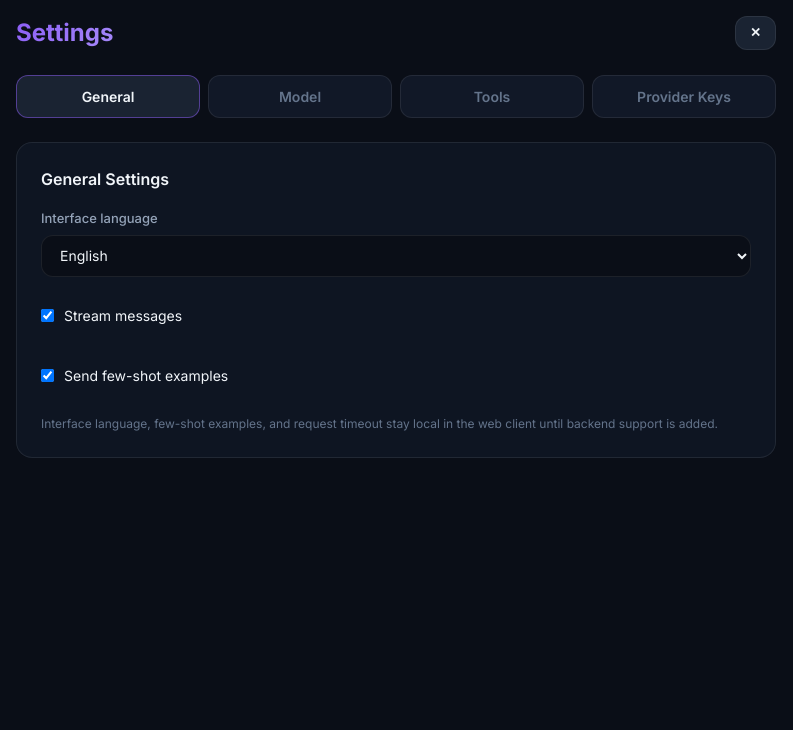
SettingsPage › uses numeric inputs for model controls
Click the tab "Model". click: (300, 96)
box: [208,75,392,118]
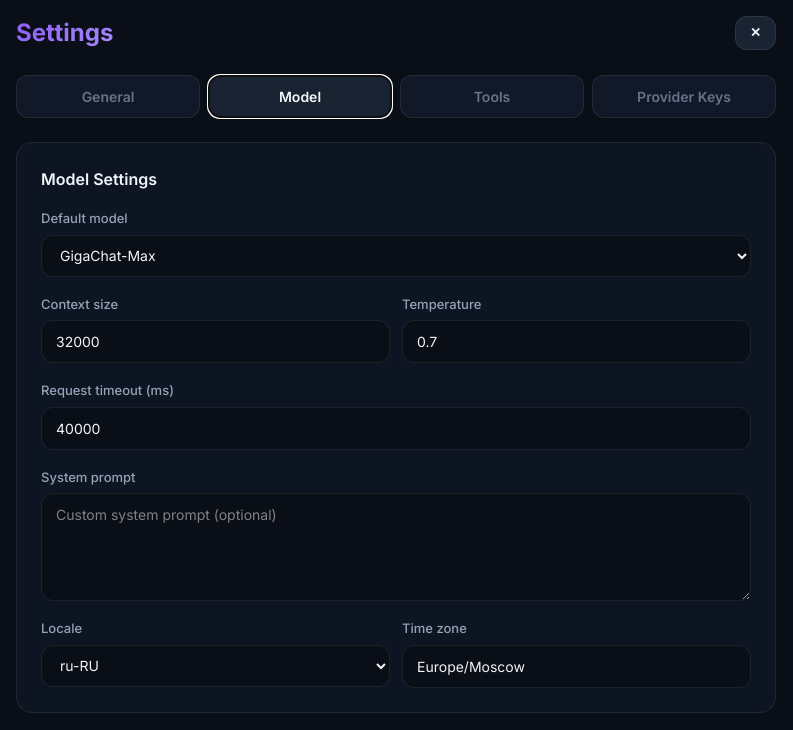
Expected: the number field labelled "Context size" is shown, [41,320,390,363]
Expected: the number field labelled "Temperature" is shown, [402,320,751,363]
Expected: the number field labelled "Request timeout (ms)" is shown, [41,406,751,450]
